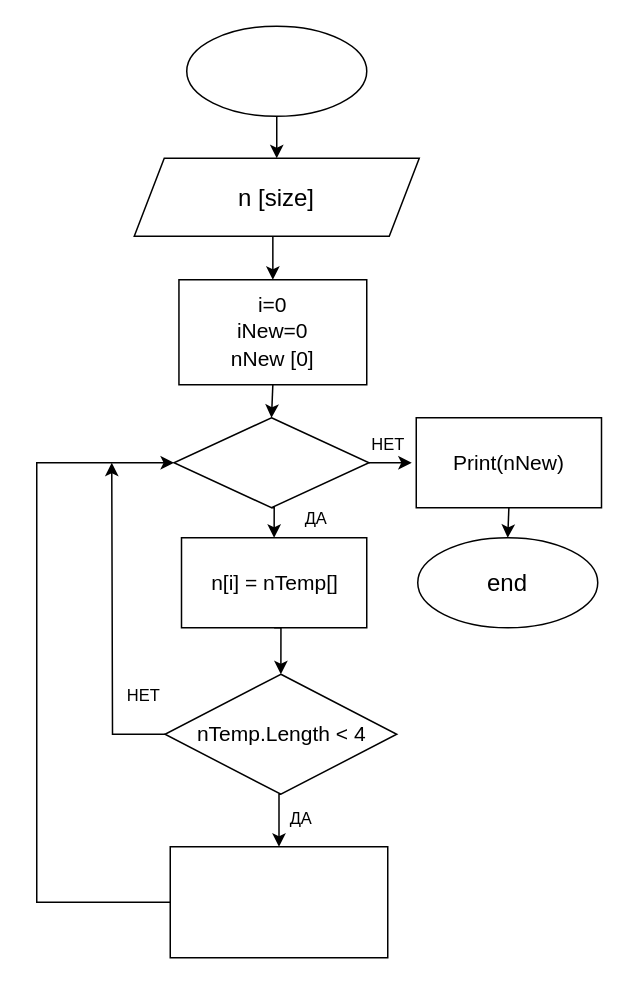
Some shapes in this 629 by 984 pixel diagram are drawn without their labels. Here are the shapes that lost their labels. From the top down, the box of each, then its label:
(185, 25, 367, 116): start
(172, 416, 369, 508): i < size
(169, 845, 388, 958): nNew[iNew] = n[i] iNew++
